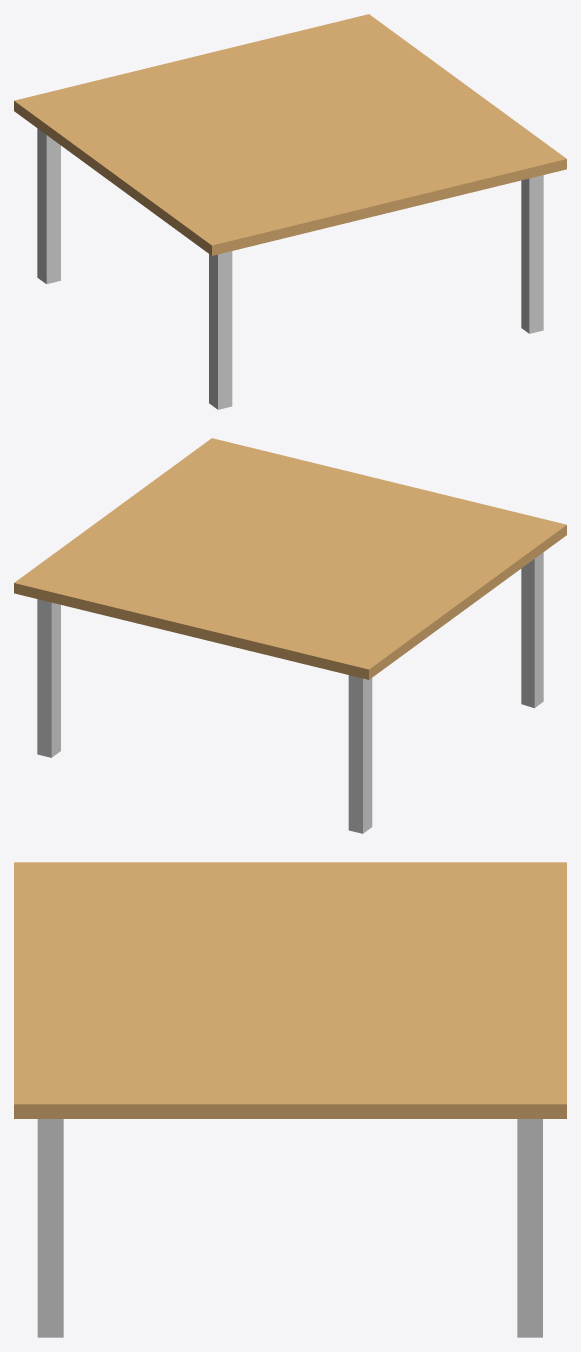
The model's file is Table.fbx.
The picture shows the model from 3 angles, top to bottom: view 1: azimuth 30°, elevation 25°; view 2: azimuth 150°, elevation 25°; view 3: azimuth 270°, elevation 25°; orthographic projection. The views are drawn at different scales.
Visible parts, largest first — view 1: Table; view 2: Table; view 3: Table.
Boxes of the visible parts, box(x1,y1,x2,y2) form: Table: box(14, 14, 566, 409); Table: box(14, 438, 566, 833); Table: box(14, 862, 566, 1337).
Size of the model in its own units: 237 by 111 by 229.
